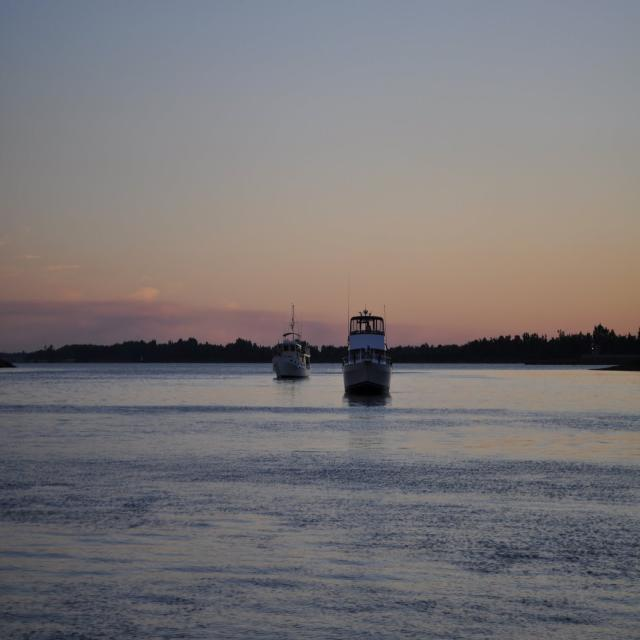houseboat: (342, 308, 396, 396), (270, 308, 315, 381)
